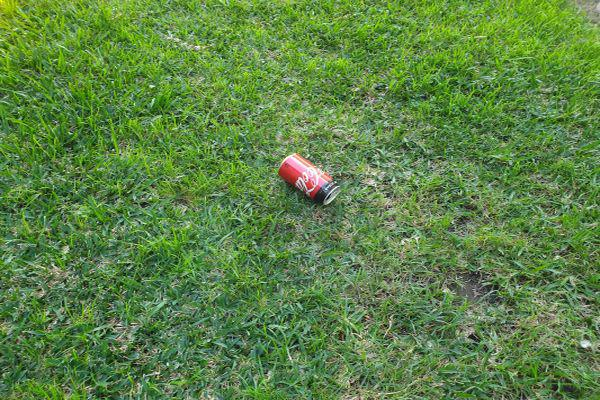Plastic Bottle: (278, 153, 342, 206)
